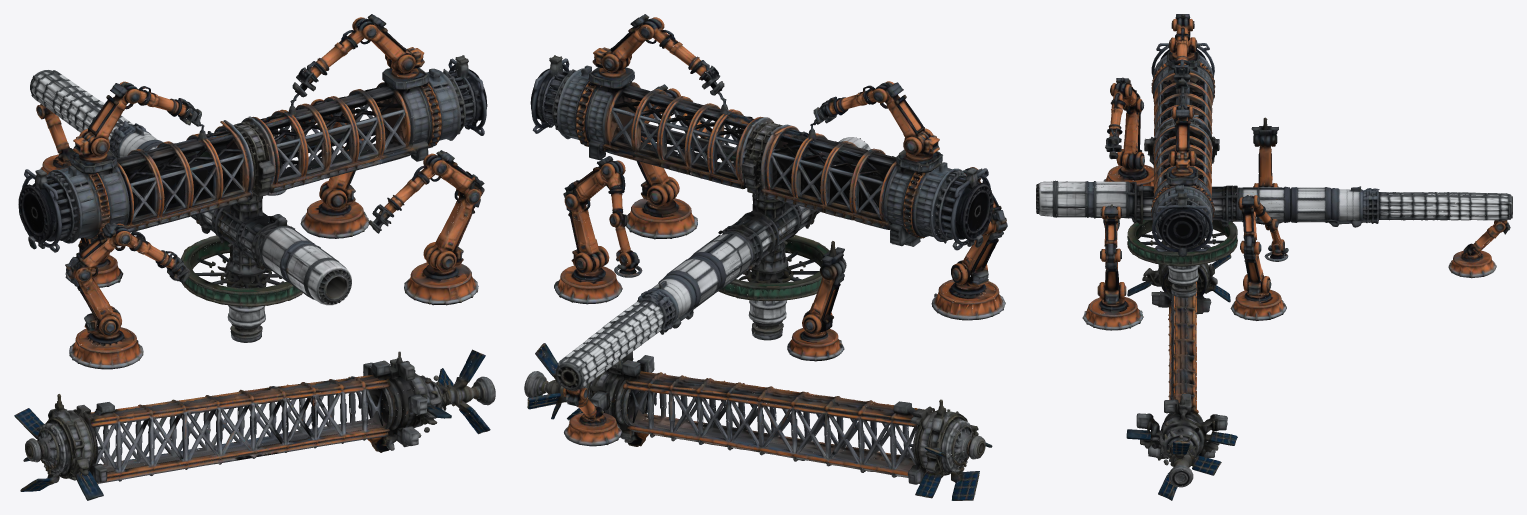
File: station_truss_arms_opt.glb
The picture shows the model from 3 angles, left to right: view 1: azimuth 30°, elevation 25°; view 2: azimuth 150°, elevation 25°; view 3: azimuth 270°, elevation 25°; orthographic projection. The views are drawn at different scales.
Visible parts, largest first — view 1: world; view 2: world; view 3: world.
Part boxes in pixels (x1,y1,x2,y2): world: (14,14,495,500); world: (524,14,1007,500); world: (1036,14,1512,500).
Bounding box in the file's own units: 0.9017 × 0.8208 × 1.
1 material, 1 textured.
